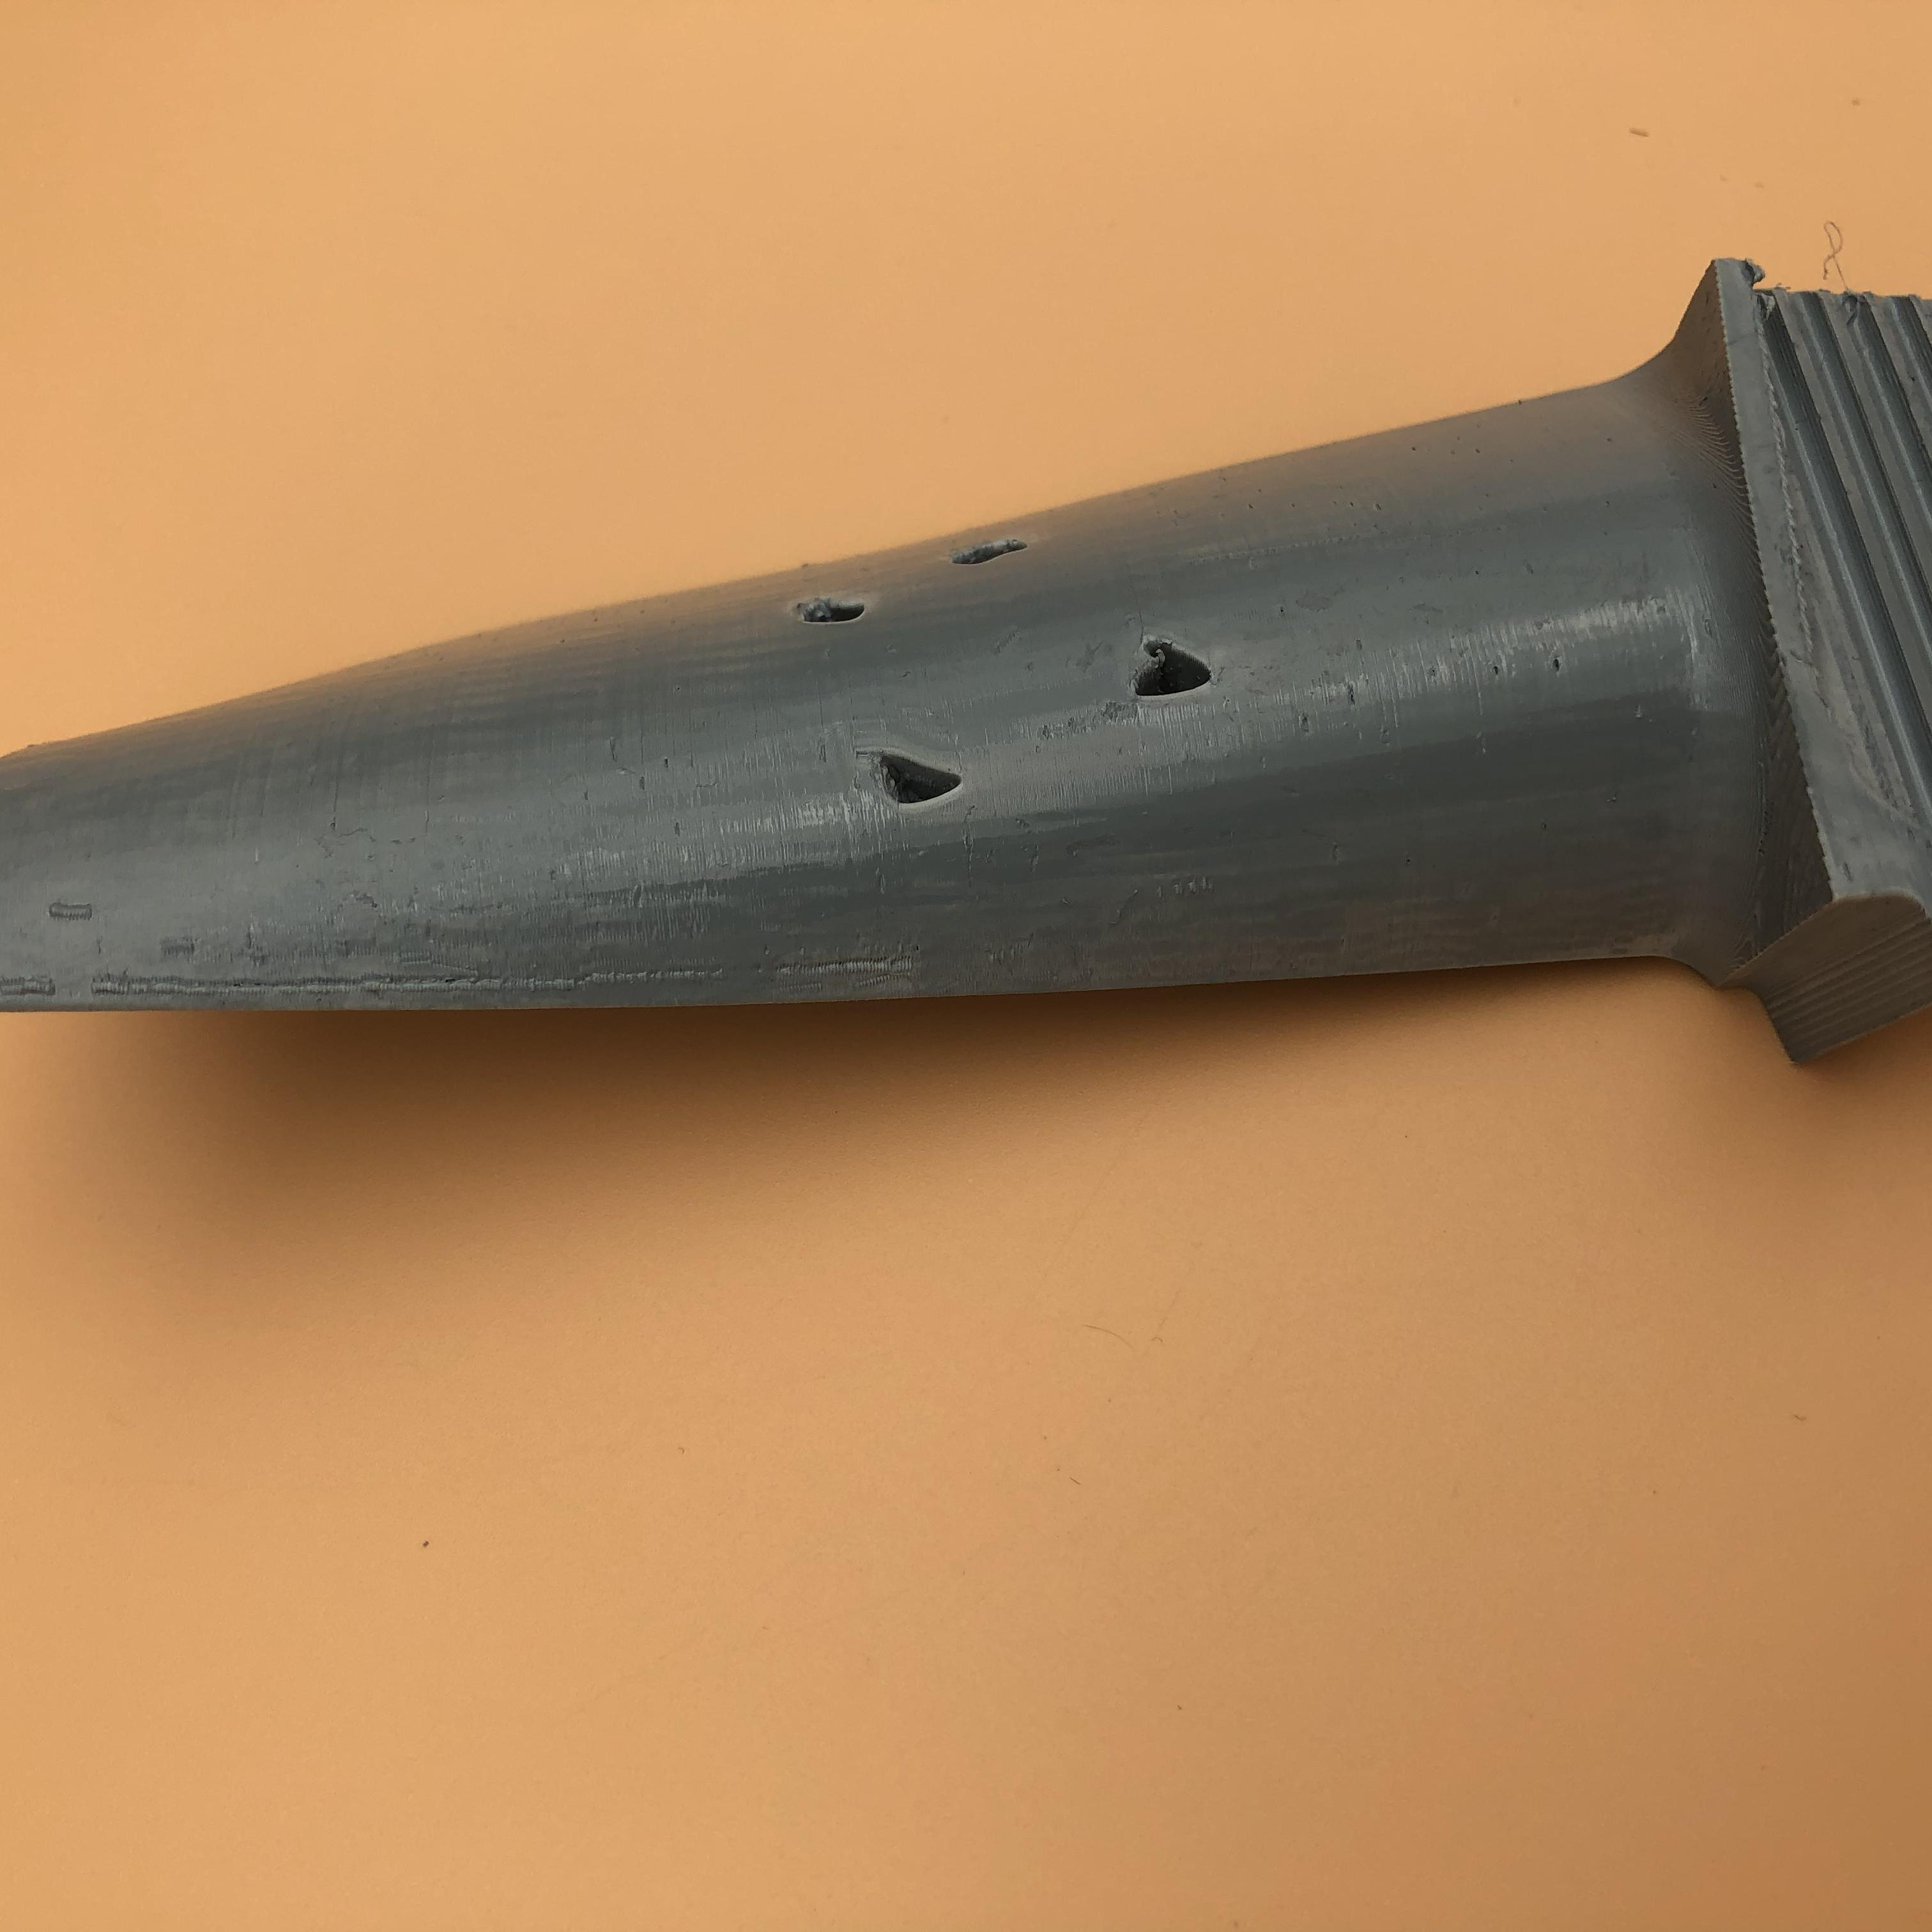breakdown: (798, 552, 1051, 621), (1129, 616, 1240, 702), (865, 734, 975, 812)
